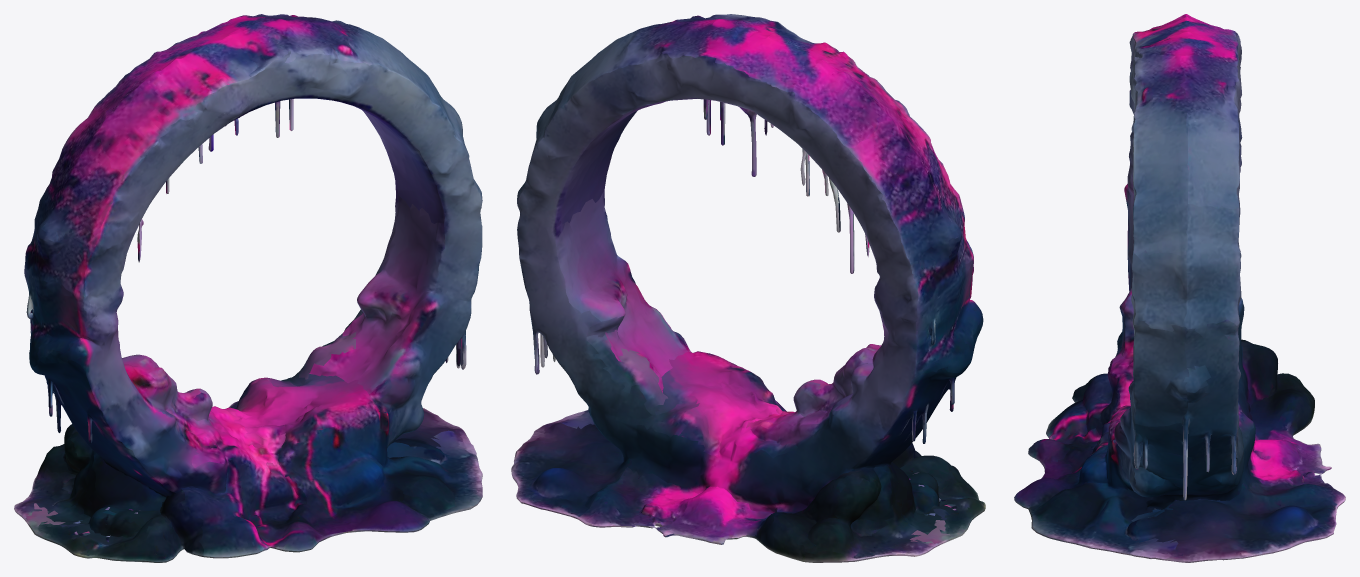
Rendered from broken-ring-generated-2026-05-17T21-08-20-319Z.medium.glb.
The picture shows the model from 3 angles, left to right: view 1: azimuth 30°, elevation 25°; view 2: azimuth 150°, elevation 25°; view 3: azimuth 270°, elevation 25°; orthographic projection. The views are drawn at different scales.
Visible parts, largest first — view 1: temp_mesh.ply; view 2: temp_mesh.ply; view 3: temp_mesh.ply.
Boxes of the visible parts, x1=… form: temp_mesh.ply: x1=14, y1=14, x2=482, y2=562; temp_mesh.ply: x1=511, y1=14, x2=985, y2=562; temp_mesh.ply: x1=1014, y1=14, x2=1345, y2=562.
Bounding box in the file's own units: 1.97 × 1.94 × 1.36.
1 material, 1 textured.
